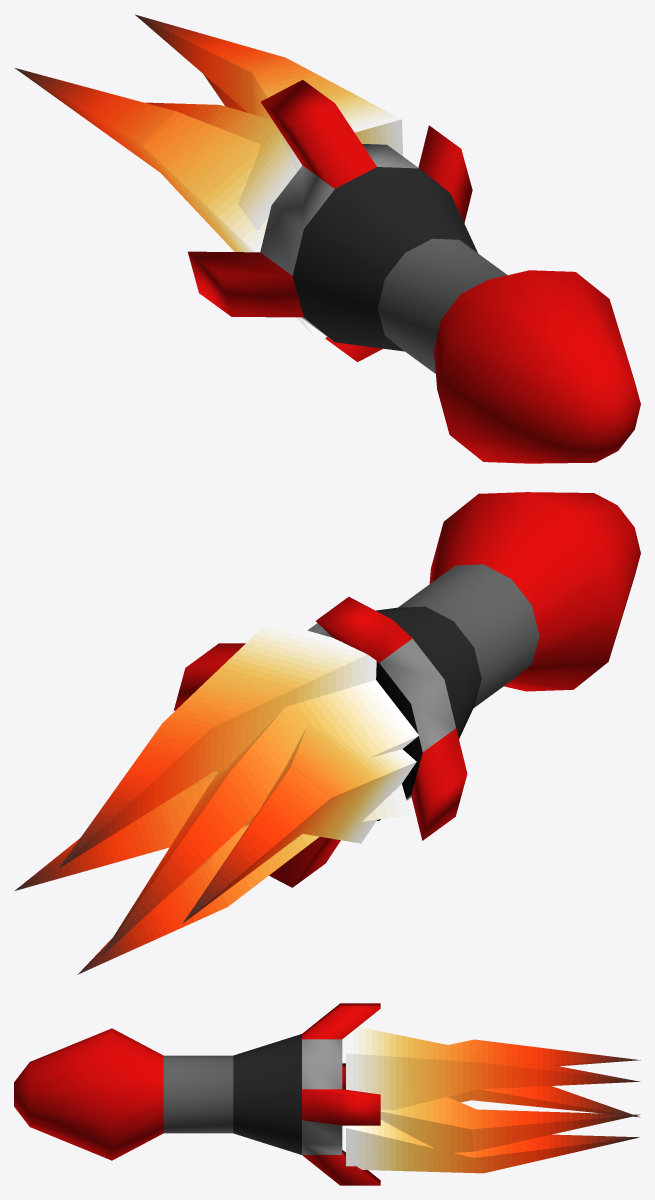
File: rocket_projectile.glb
The picture shows the model from 3 angles, top to bottom: view 1: azimuth 30°, elevation 25°; view 2: azimuth 150°, elevation 25°; view 3: azimuth 270°, elevation 25°; orthographic projection. The views are drawn at different scales.
Visible parts, largest first — view 1: Cylinder, engine_fire.003; view 2: engine_fire.003, Cylinder; view 3: Cylinder, engine_fire.003.
Part boxes in pixels (<box>): Cylinder: <box>188,80,640,463</box>; engine_fire.003: <box>15,14,403,335</box>; engine_fire.003: <box>15,620,418,974</box>; Cylinder: <box>173,492,640,887</box>; Cylinder: <box>14,1003,380,1185</box>; engine_fire.003: <box>346,1027,640,1173</box>.
Bounding box in the file's own units: 0.2267 × 0.2267 × 0.7825.
Materials: 2 (2 with a texture image).
